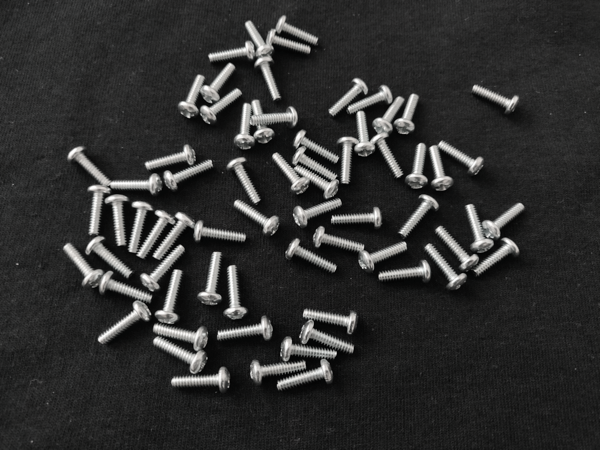shortscrew: (96, 301, 151, 346), (152, 337, 209, 376), (140, 245, 186, 292), (424, 243, 468, 292), (85, 237, 135, 279), (153, 212, 197, 259), (436, 226, 480, 273), (299, 320, 356, 356), (285, 238, 338, 276), (67, 146, 114, 188), (62, 243, 104, 290), (397, 195, 440, 240), (473, 238, 521, 277), (437, 140, 486, 178), (137, 210, 175, 259), (233, 199, 280, 237), (277, 360, 332, 392), (482, 202, 526, 241), (164, 158, 214, 192), (100, 272, 153, 304), (249, 358, 307, 387), (328, 77, 369, 118), (217, 315, 273, 345), (171, 367, 231, 395), (371, 133, 405, 182), (358, 241, 408, 274), (199, 88, 242, 126), (272, 152, 310, 195), (294, 166, 340, 201), (471, 84, 521, 116), (153, 324, 209, 352), (293, 198, 342, 230), (227, 158, 261, 204), (291, 146, 337, 180), (293, 130, 339, 164), (346, 84, 393, 117), (156, 270, 184, 325), (303, 309, 358, 336), (197, 253, 224, 307), (144, 145, 196, 172), (127, 201, 154, 253), (224, 265, 249, 321), (281, 337, 337, 362), (312, 226, 365, 252), (466, 205, 494, 254), (201, 64, 236, 103), (275, 15, 319, 46), (378, 259, 432, 284), (194, 220, 247, 245), (373, 96, 405, 137), (178, 75, 207, 120), (86, 185, 111, 236), (430, 145, 456, 194), (255, 58, 283, 103), (111, 174, 163, 198), (393, 93, 422, 136), (244, 20, 275, 60), (105, 195, 129, 246), (332, 206, 383, 230), (404, 143, 428, 190), (252, 100, 276, 147), (266, 29, 311, 54), (207, 40, 254, 63), (234, 103, 256, 151), (354, 111, 376, 158), (251, 107, 299, 128)
